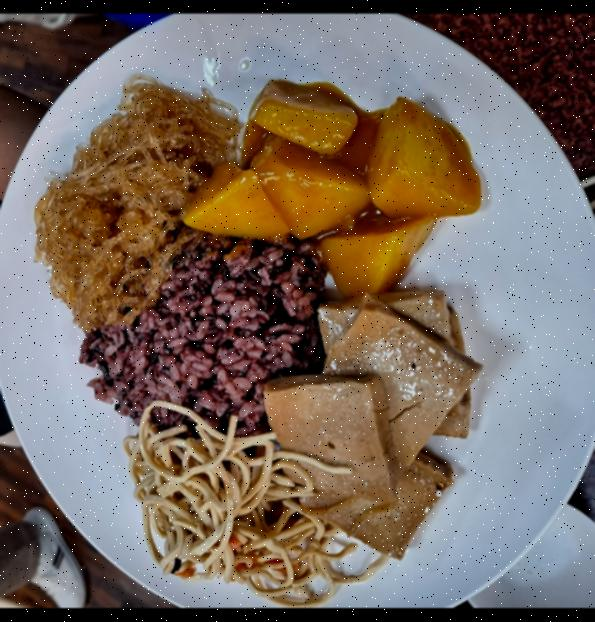plate: (0, 17, 593, 608)
purple rice: (98, 243, 315, 430)
side dish: (270, 281, 491, 541), (189, 82, 481, 272), (34, 85, 202, 310), (128, 410, 323, 598)
